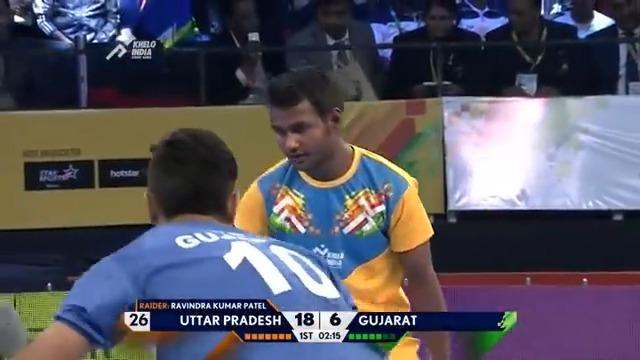Player: (6, 126, 385, 359)
Raider: (230, 66, 451, 358)
referee: (283, 0, 384, 101), (385, 0, 485, 98), (482, 0, 582, 97), (548, 0, 620, 95)
